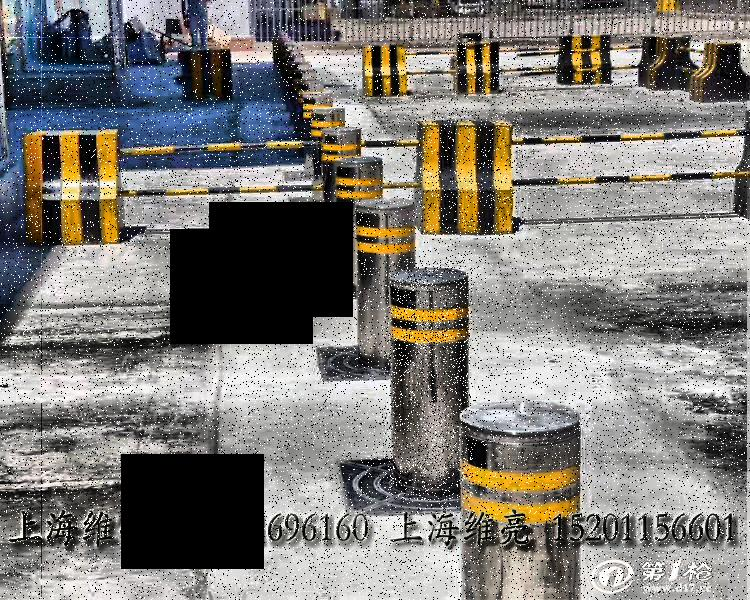bench: (384, 260, 473, 501), (17, 117, 132, 247), (411, 109, 526, 236), (445, 30, 503, 98)
